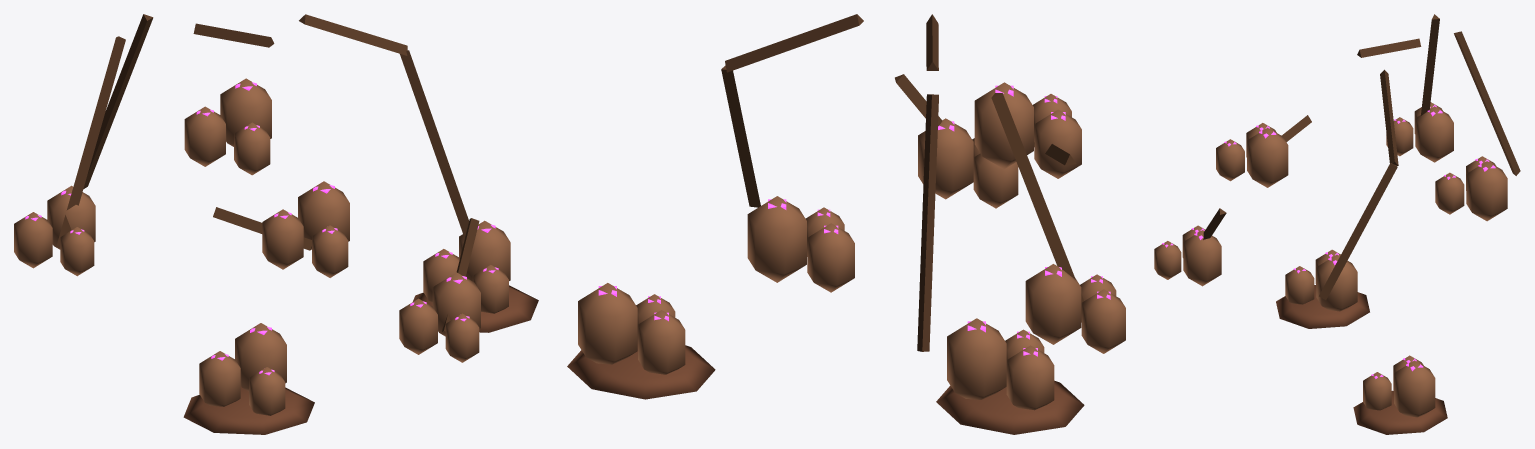
The model's file is overworld-settlement-eggs-southeast-asian-city.glb.
3 renders of one model, left to right at view 1: azimuth 30°, elevation 25°; view 2: azimuth 150°, elevation 25°; view 3: azimuth 270°, elevation 25°, orthographic. The views are drawn at different scales.
Visible parts, largest first — view 1: settlement_eggs; view 2: settlement_eggs; view 3: settlement_eggs.
Boxes of the visible parts, x1,y1,x2,y2 form: settlement_eggs: (14,14,538,434); settlement_eggs: (567,14,1125,434); settlement_eggs: (1154,14,1520,434).
Bounding box in the file's own units: 0.5535 × 0.3687 × 0.4455.
